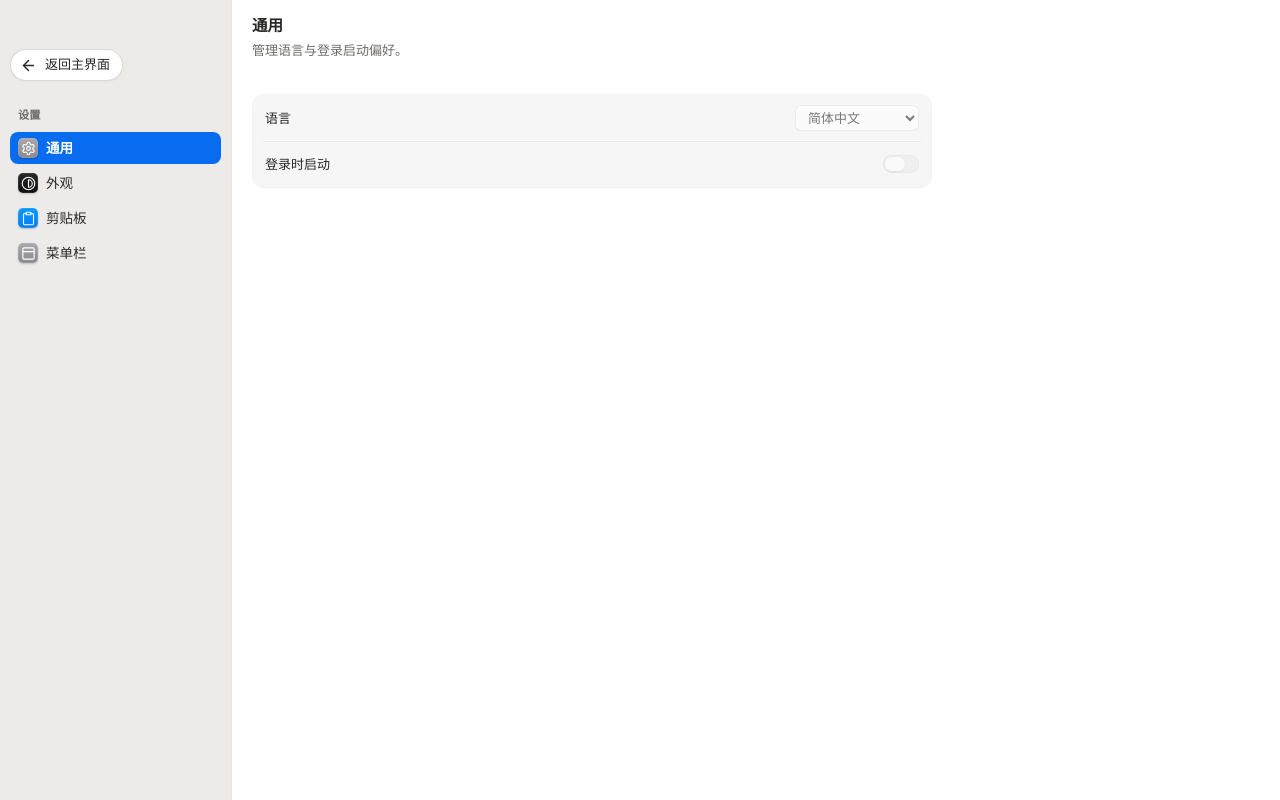
Scenario: SettingsView › disables maximum item size while saving and exposes help on demand
The image size is (1280, 800).
Click the button "剪贴板" at (116, 218), box [10,202,221,234]
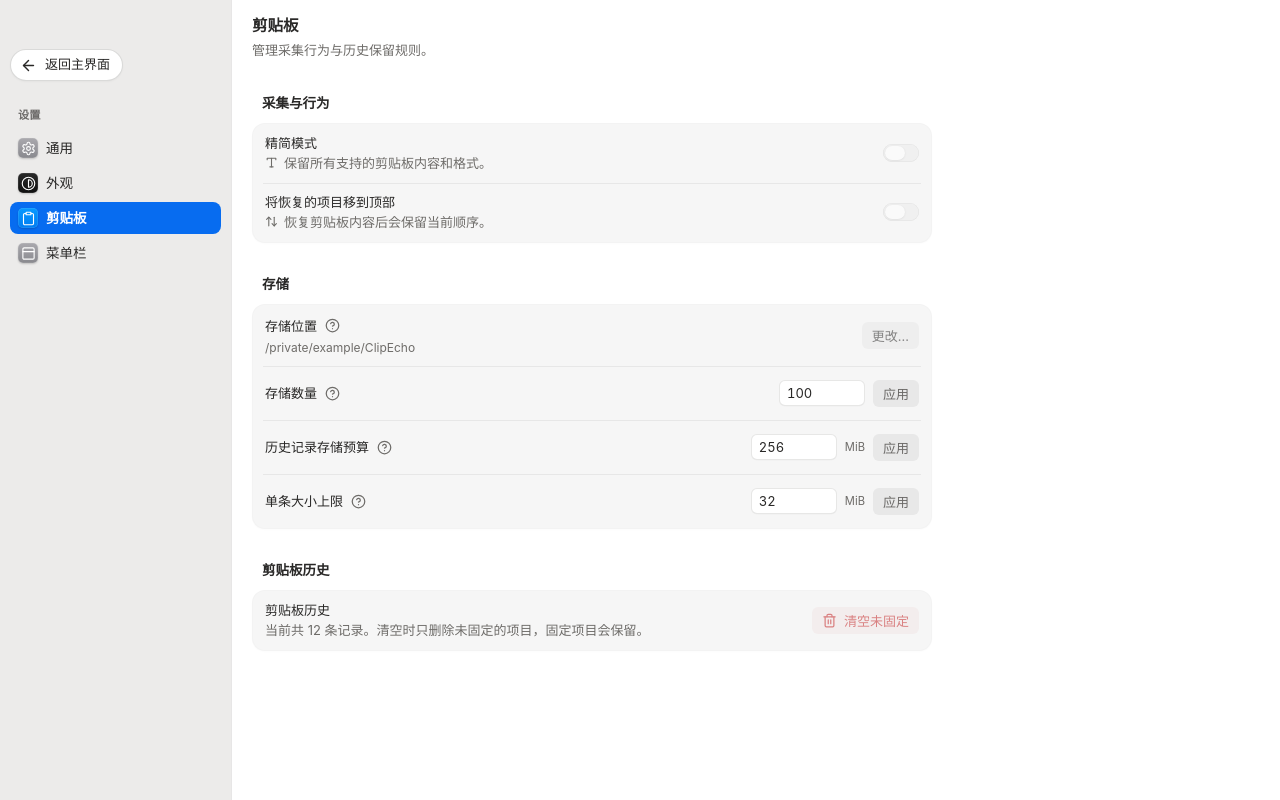
Expected: the number field with id "event-budget-input" is disabled, [751,488,837,514]
Click the button named "单条大小上限说明" at (358, 501), box [347,490,369,512]
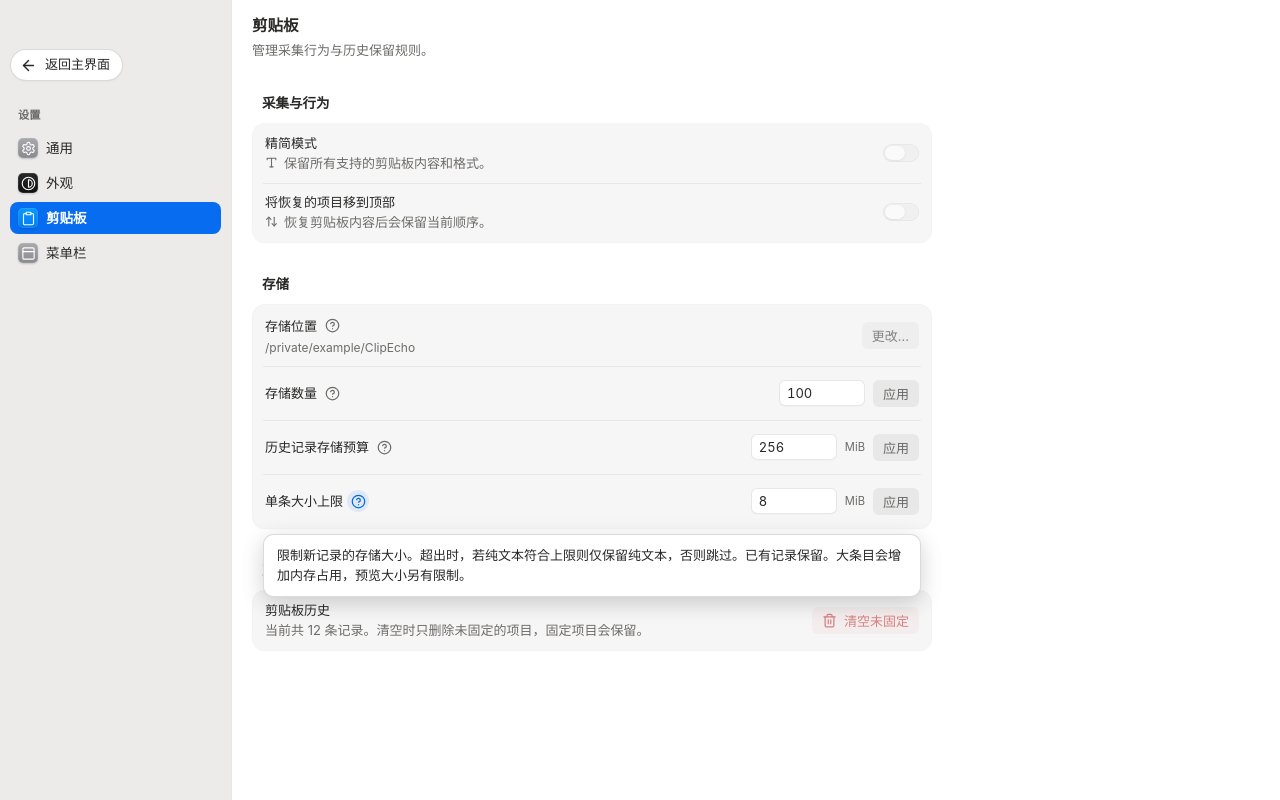
Expected: the text with id "event-budget-help" reads "限制新记录的存储大小。超出时，若纯文本符合上限则仅保留纯文本，否则跳过。已有记录保留。大条目会增加内存占用，预览大小另有限制。", [277,547,901,583]
